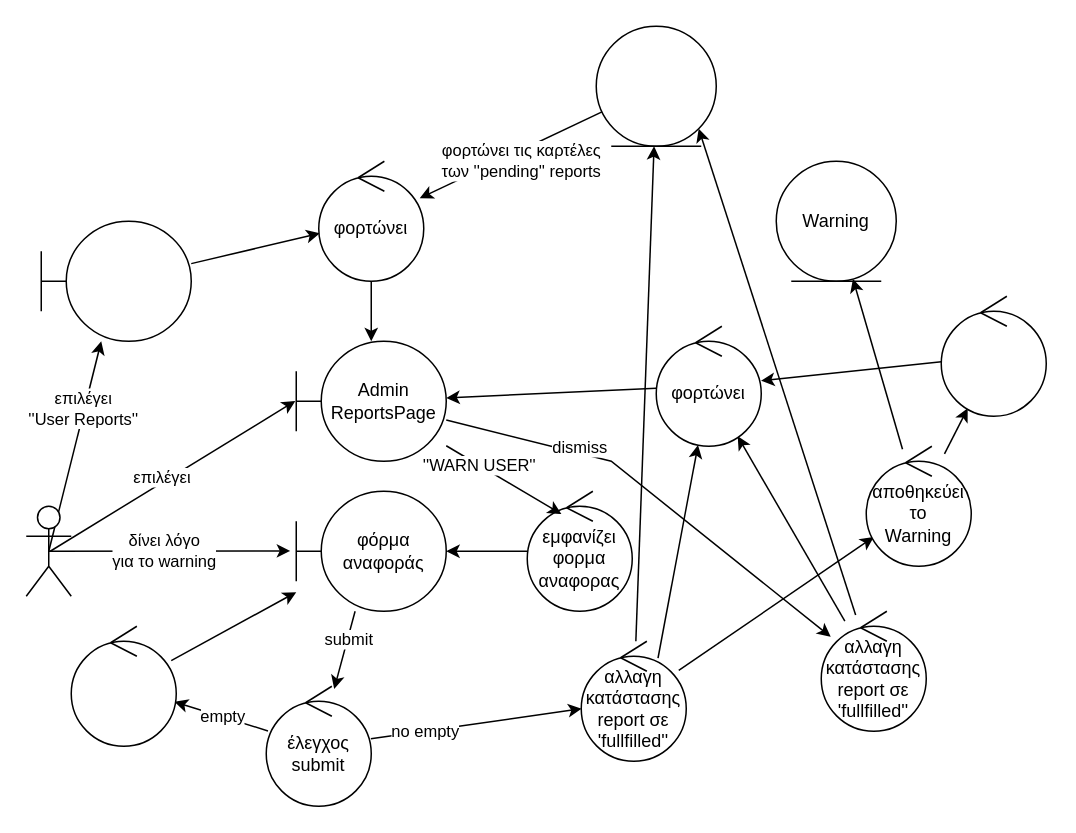
Image size: 1076x833. Some labels were removed from this diagram. Each missing label, with the centre of its shape:
Admin NavigationBar: the point at 115,280
Report: the point at 655,85
User: the point at 48,550
εμφανίζει μηνυμα επιβεβαίωσης: the point at 993,355
μήνυμα: υποχρεοτική καταχώρηση λόγου: the point at 123,685
